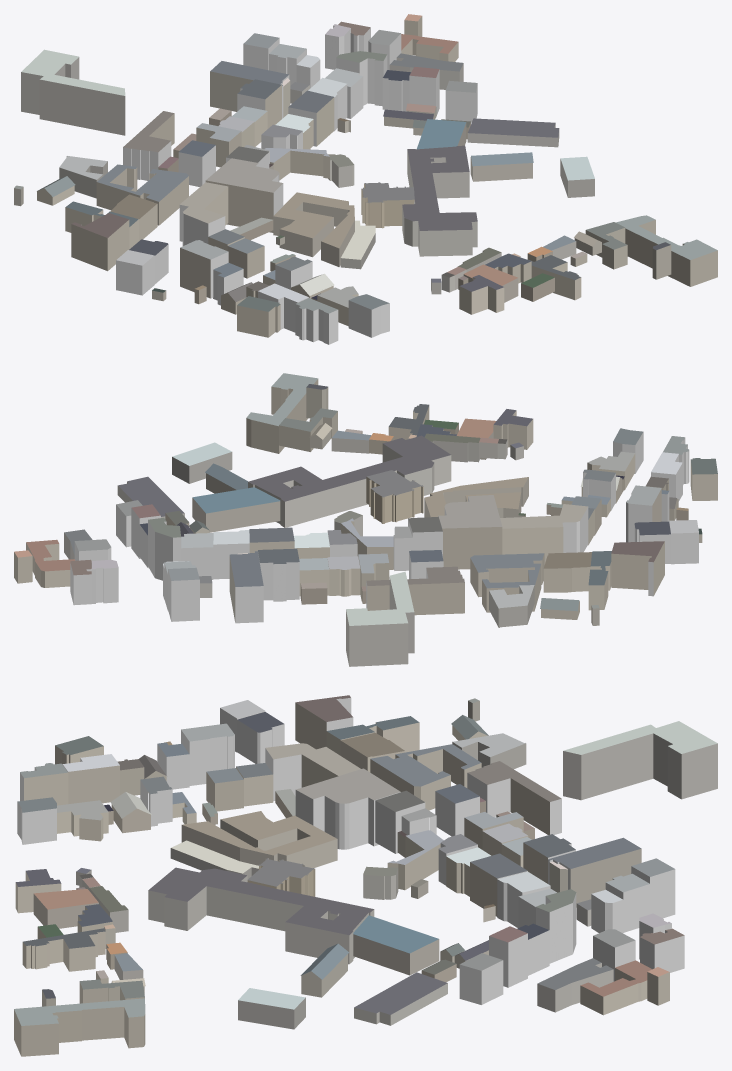
3 views of the same model, one above another, from view 1: azimuth 30°, elevation 25°; view 2: azimuth 150°, elevation 25°; view 3: azimuth 270°, elevation 25° (orthographic). The views are drawn at different scales.
Parts seen in each view (by area): view 1: tuile; view 2: tuile; view 3: tuile.
Part boxes in pixels (x1,y1,x2,y2): tuile: (14,14,717,344); tuile: (14,373,717,666); tuile: (14,695,717,1056).
Bounding box in the file's own units: 263 × 46.95 × 278.
